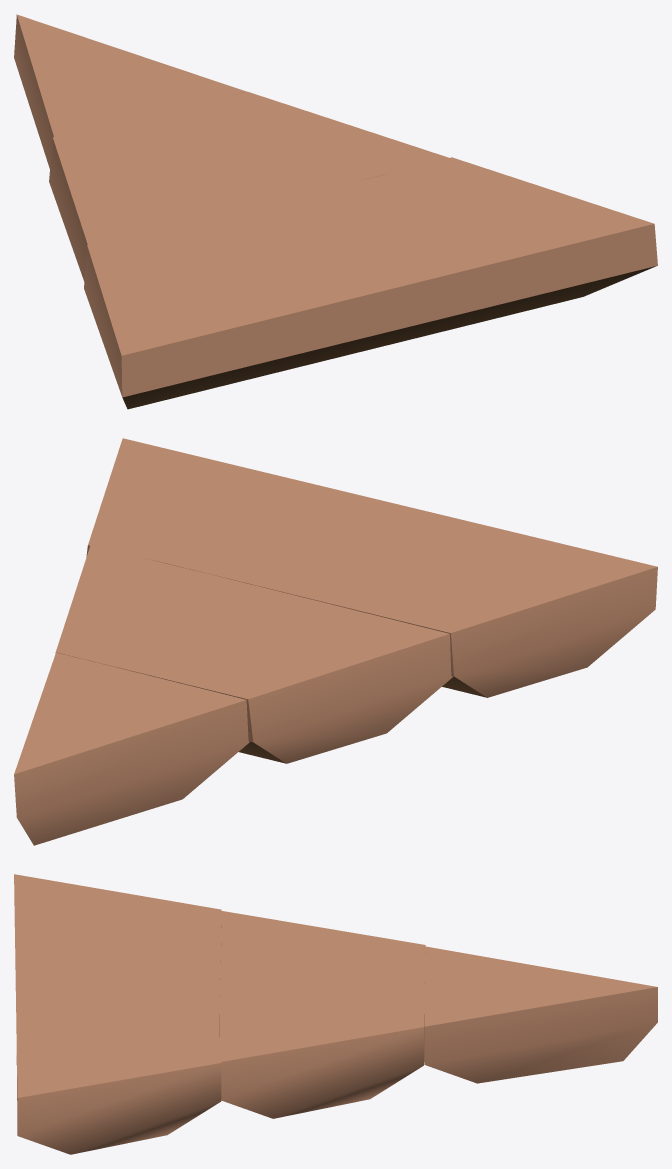
The model's file is w45_wood_2_pineSplitLogTriFloorSection2.glb.
3 renders of one model, top to bottom at view 1: azimuth 30°, elevation 25°; view 2: azimuth 150°, elevation 25°; view 3: azimuth 270°, elevation 25°, orthographic. The views are drawn at different scales.
Parts seen in each view (by area): view 1: inside; view 2: inside; view 3: inside.
Part boxes in pixels (x1,y1,x2,y2): inside: (14, 14, 657, 409); inside: (14, 438, 657, 845); inside: (14, 874, 657, 1154).
Size of the model in its own units: 0.7929 by 0.1233 by 0.9578.
